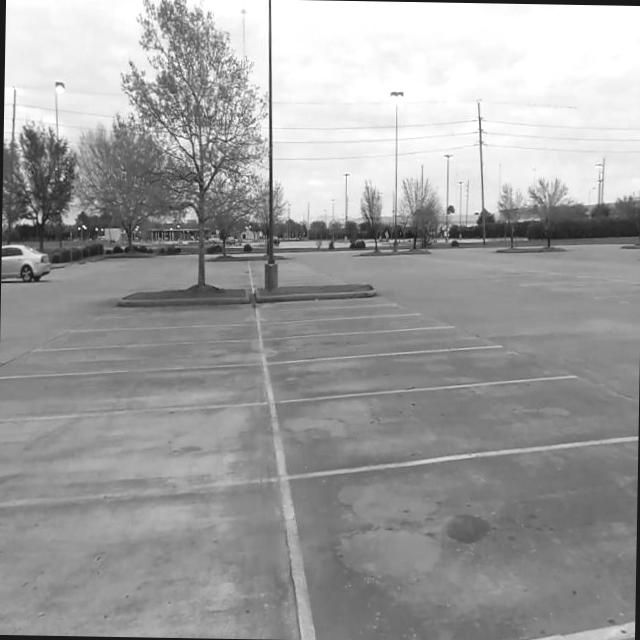free: (282, 437, 636, 640), (0, 478, 309, 639), (268, 372, 638, 490), (0, 392, 282, 513), (270, 344, 596, 418), (0, 370, 260, 432), (262, 323, 510, 368), (8, 334, 258, 376), (17, 322, 267, 354), (64, 300, 253, 332), (260, 313, 450, 344), (261, 302, 402, 326)
